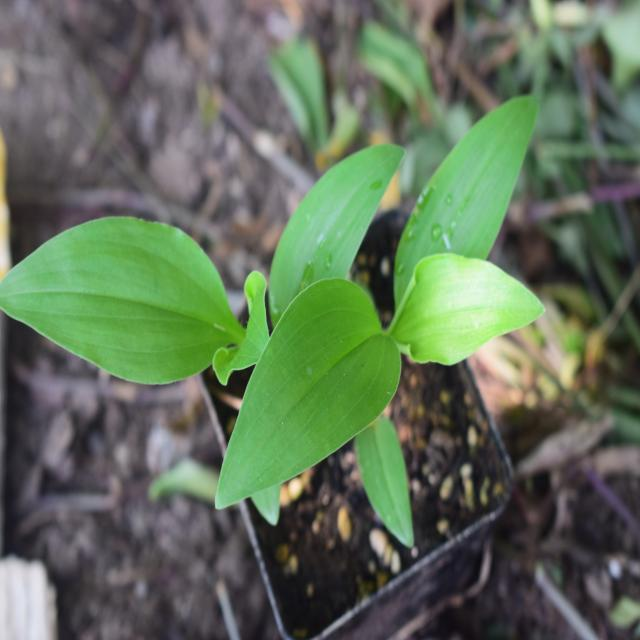Common Dayflower: (182, 86, 550, 522), (10, 200, 204, 390)
